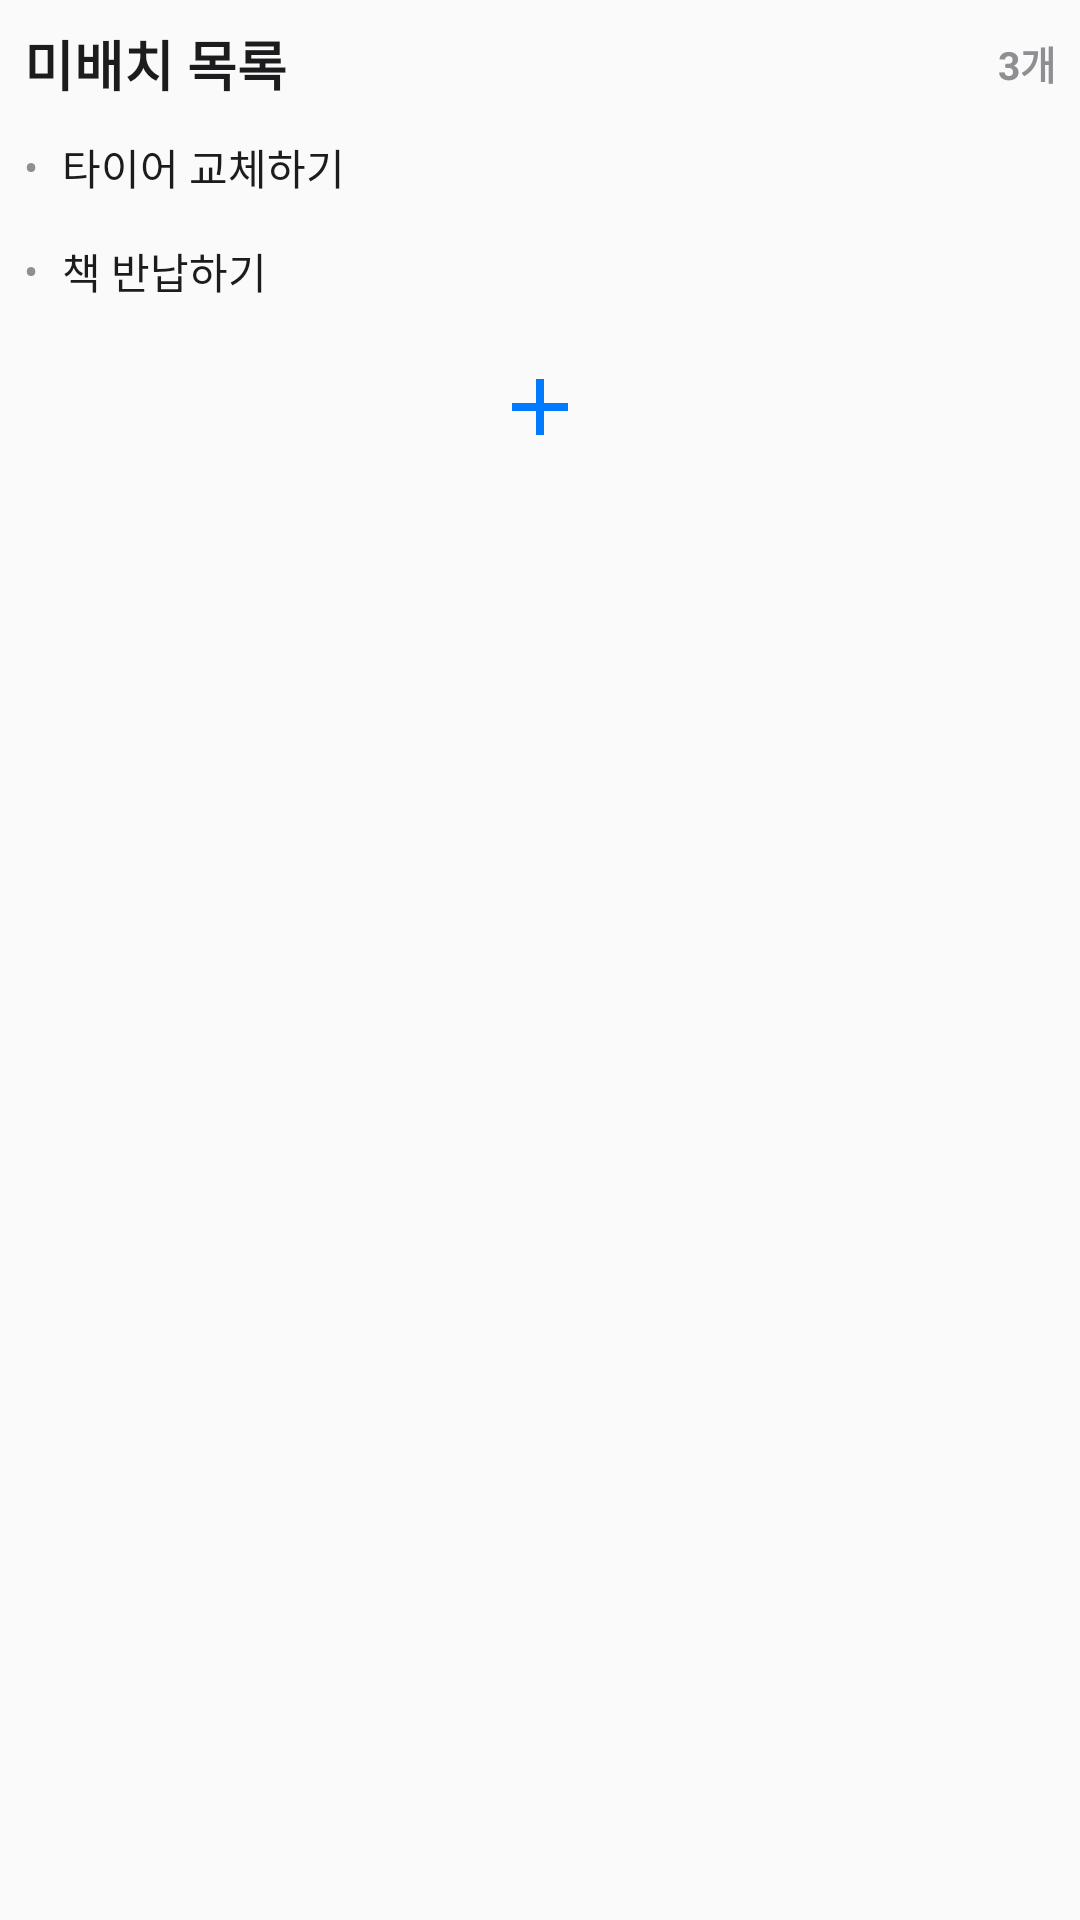

Icons on this 1080*1920 Android screen, each with its box as (x1,y1,x2,y2):
widget add: (512,379,568,435)
